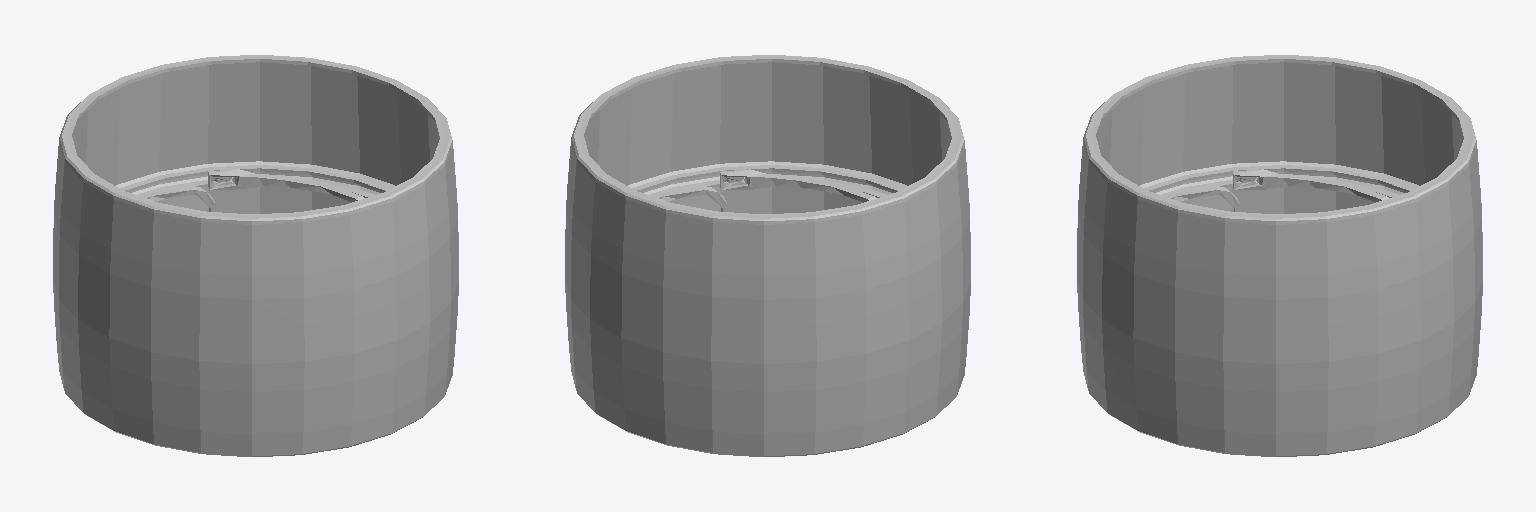
File: Wheel_LeftFront.obj
3 views of the same model, side by side, from view 1: azimuth 30°, elevation 25°; view 2: azimuth 150°, elevation 25°; view 3: azimuth 270°, elevation 25° (orthographic).
Parts seen in each view (by area): view 1: Wheel_LeftFront.obj; view 2: Wheel_LeftFront.obj; view 3: Wheel_LeftFront.obj.
Part boxes in pixels (bbox=[...]): Wheel_LeftFront.obj: bbox=[53, 55, 458, 456]; Wheel_LeftFront.obj: bbox=[565, 55, 970, 456]; Wheel_LeftFront.obj: bbox=[1077, 55, 1482, 456].
Size of the model in its own units: 0.5098 by 0.3306 by 0.5098.